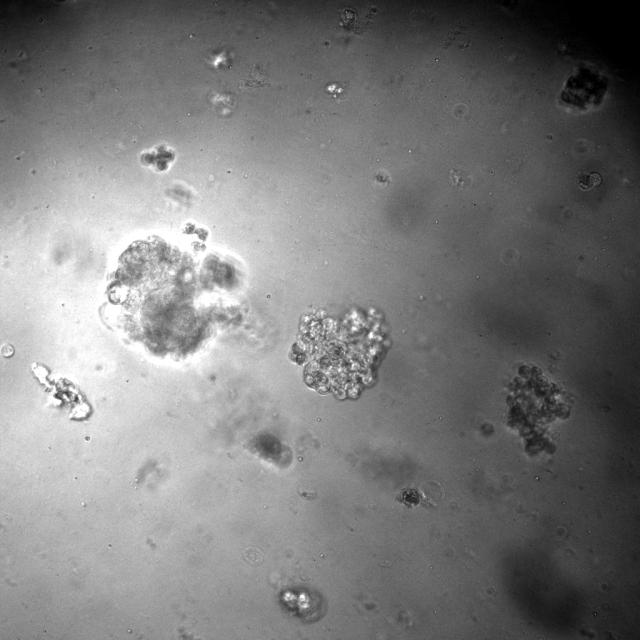organoid: (101, 220, 244, 359), (289, 307, 389, 400), (506, 364, 571, 455), (32, 363, 90, 420), (558, 64, 608, 113), (279, 585, 326, 622), (247, 430, 291, 467), (339, 6, 377, 34), (141, 144, 176, 172), (396, 487, 421, 508), (324, 81, 346, 101), (578, 172, 601, 190), (0, 343, 14, 357)
